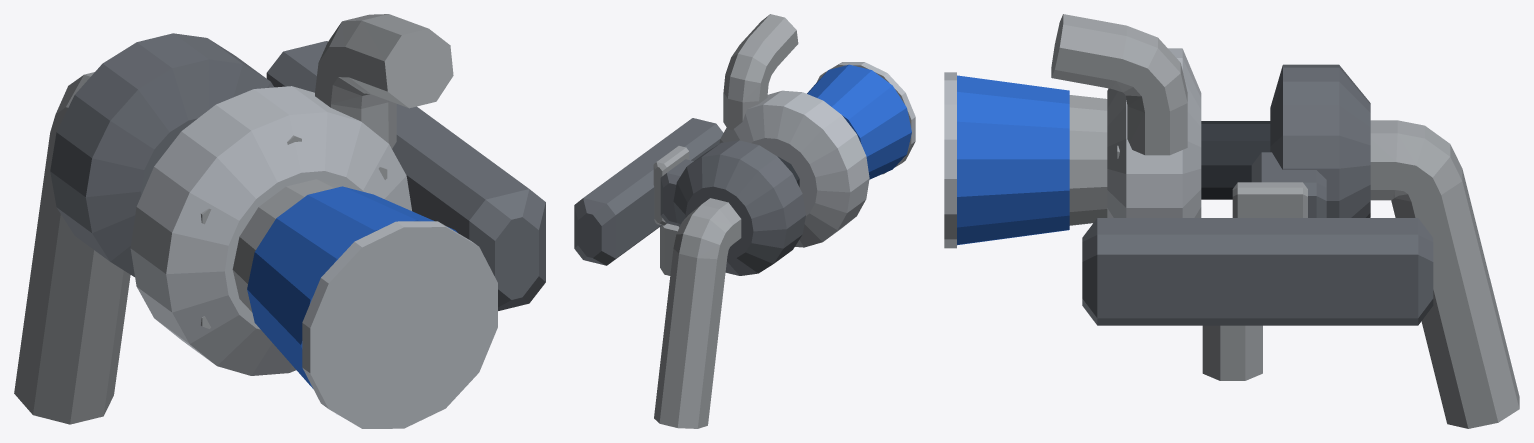
Rendered from kaze_gt.glb.
The picture shows the model from 3 angles, left to right: view 1: azimuth 30°, elevation 25°; view 2: azimuth 150°, elevation 25°; view 3: azimuth 270°, elevation 25°; orthographic projection. The views are drawn at different scales.
Visible parts, largest first — view 1: model; view 2: model; view 3: model.
Part boxes in pixels (bbox=[...]): model: bbox=[14, 14, 545, 428]; model: bbox=[574, 14, 915, 428]; model: bbox=[944, 14, 1519, 428].
Bounding box in the file's own units: 0.264 × 0.3801 × 0.4588.
Materials: 2 (1 with a texture image).
